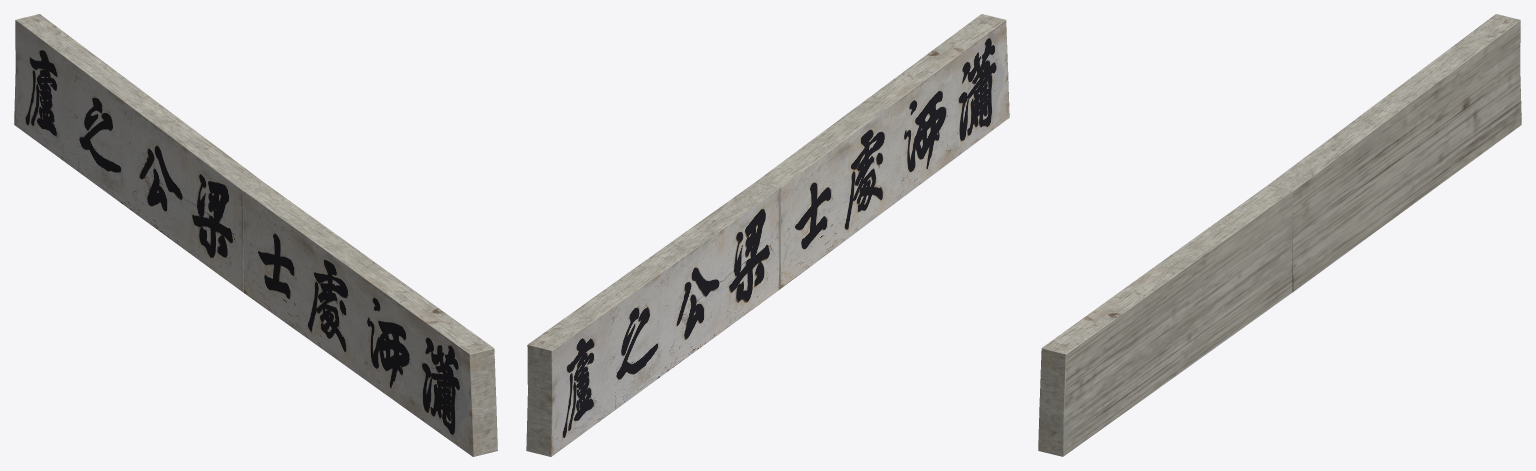
Rendered from SM_Tablet01a.fbx.
3 renders of one model, left to right at view 1: azimuth 30°, elevation 25°; view 2: azimuth 150°, elevation 25°; view 3: azimuth 330°, elevation 25°, orthographic.
Parts seen in each view (by area): view 1: SM_Tablet01a; view 2: SM_Tablet01a; view 3: SM_Tablet01a.
Boxes of the visible parts, x1,y1,x2,y2 form: SM_Tablet01a: (14, 14, 497, 456); SM_Tablet01a: (526, 14, 1009, 456); SM_Tablet01a: (1038, 14, 1521, 456).
Size of the model in its own units: 10 by 320 by 40.65.
1 material, 1 textured.
